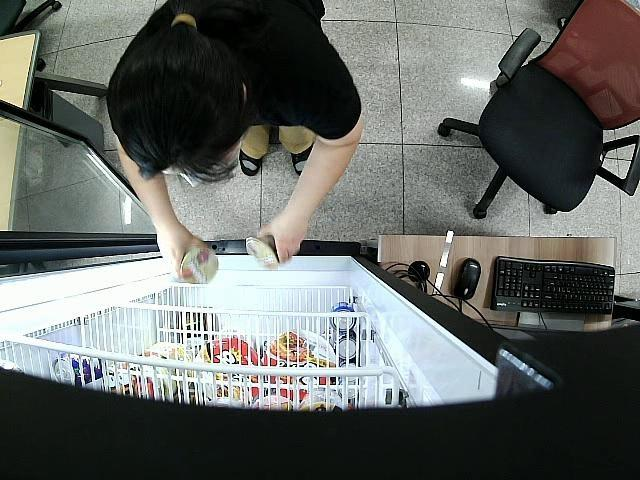04_chapagetti_S: (177, 244, 220, 283), (244, 233, 282, 270)
